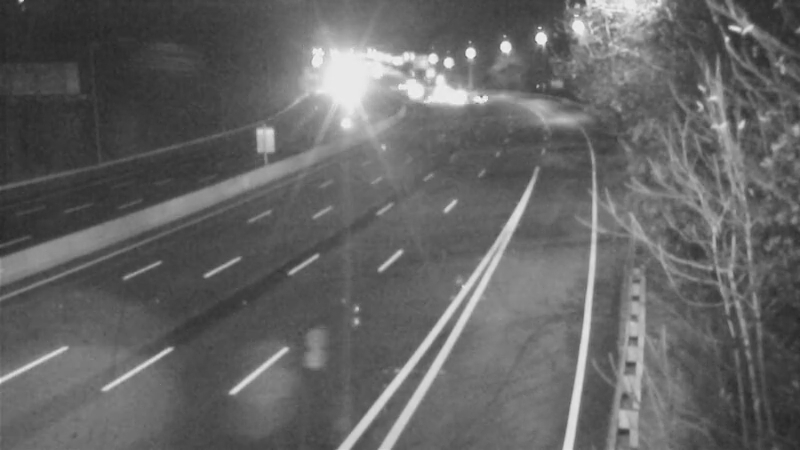vehicle: (388, 68, 438, 118), (418, 68, 468, 118), (406, 75, 456, 125), (433, 74, 483, 124), (452, 72, 502, 122)
